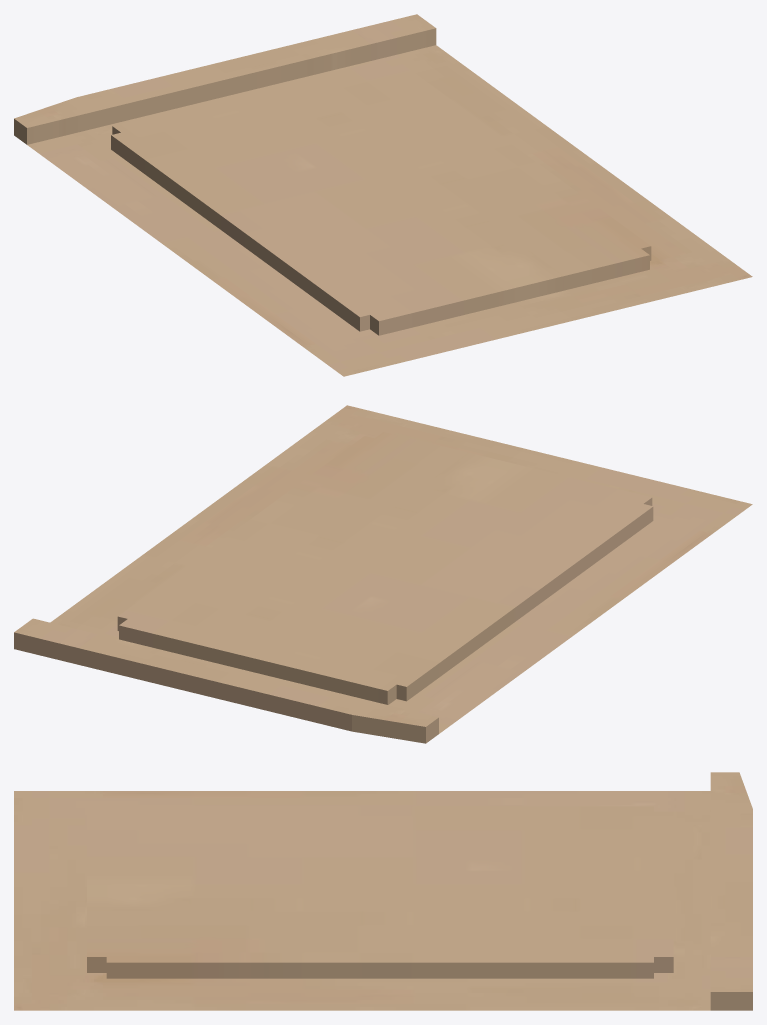
The model's file is ceiling-panel.glb.
3 renders of one model, top to bottom at view 1: azimuth 30°, elevation 25°; view 2: azimuth 150°, elevation 25°; view 3: azimuth 270°, elevation 25°, orthographic. The views are drawn at different scales.
Parts seen in each view (by area): view 1: Cube.002; view 2: Cube.002; view 3: Cube.002.
Part boxes in pixels (box(x1,y1,x2,y2)): Cube.002: box(14, 14, 752, 376); Cube.002: box(14, 405, 752, 743); Cube.002: box(14, 772, 752, 1010).
Size of the model in its own units: 5.59 by 0.2201 by 7.94.
Materials: 1 (1 with a texture image).
